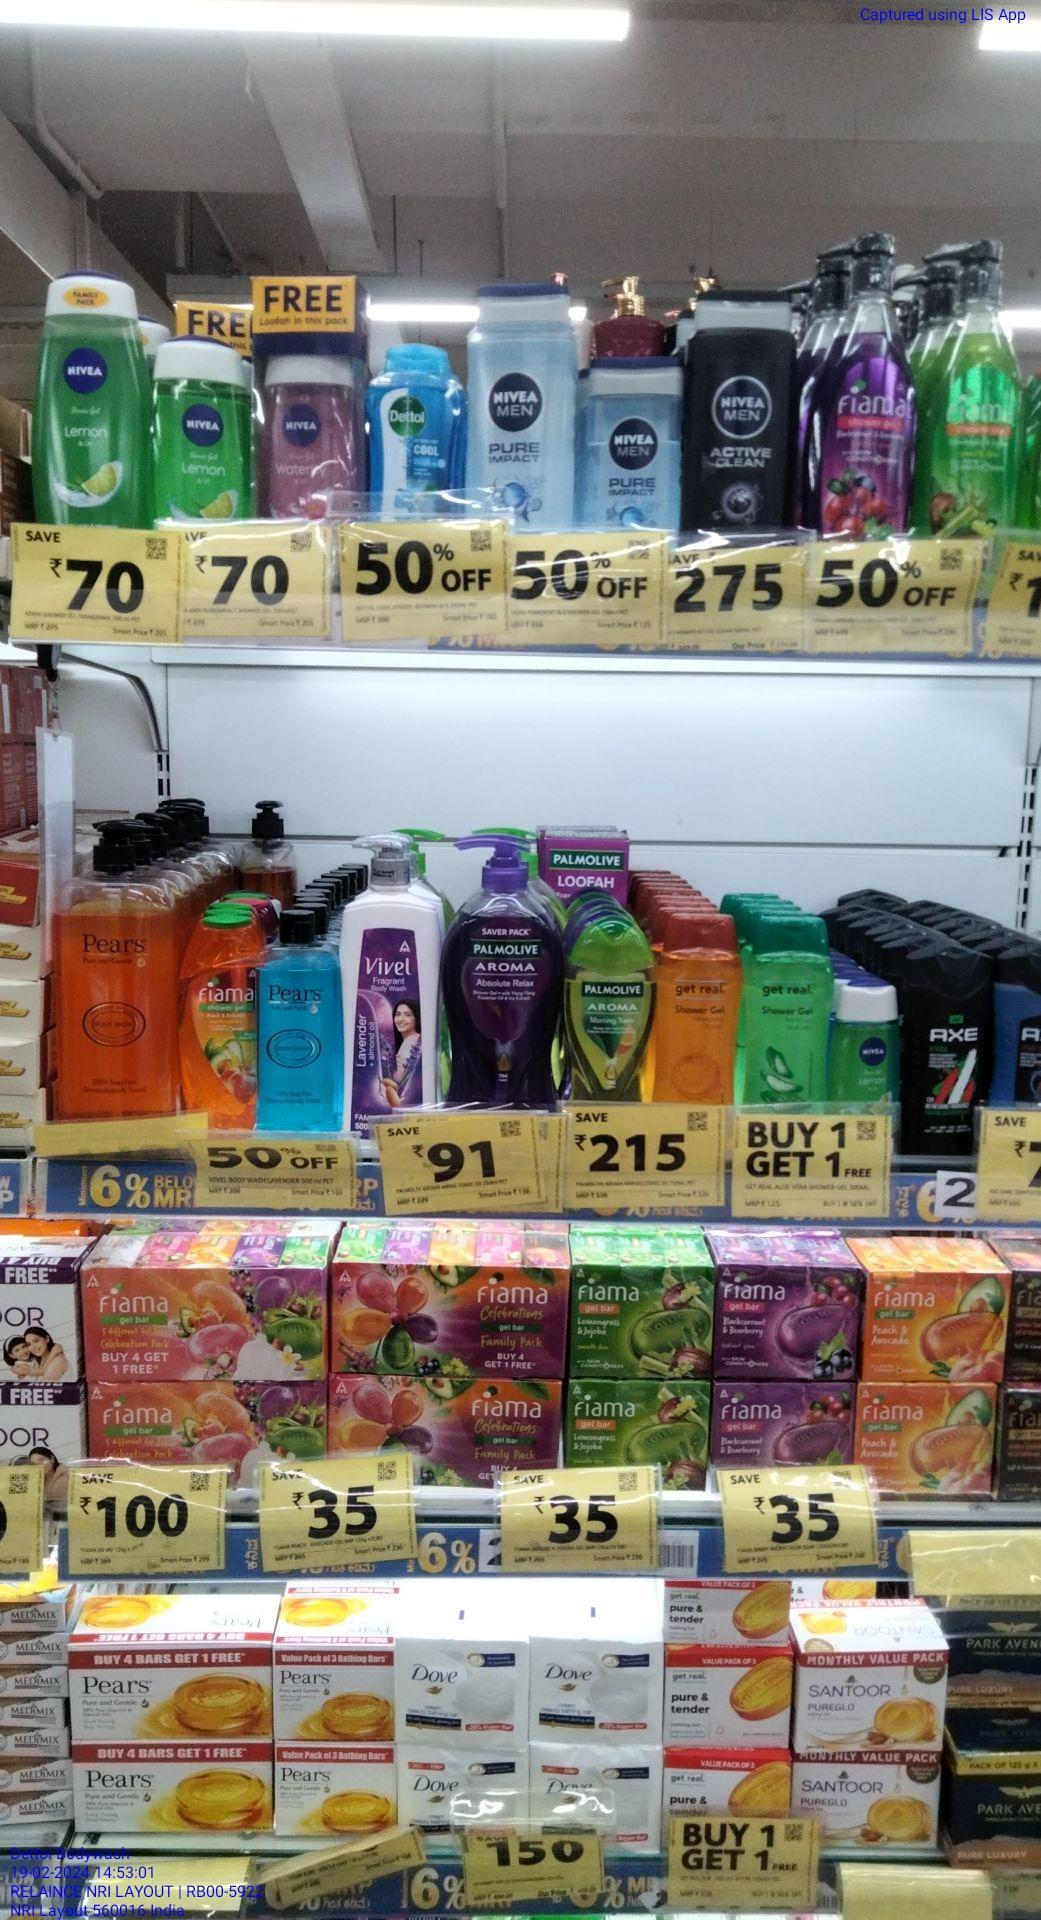Dettol_Bodywash_Cool: (369, 347, 469, 529)
Fiama_Shower_Gel_Peach_and_Avocado_250ML: (187, 906, 268, 1128)
Nivea_Shower_Gel_Lemon_and_Oil_250ML: (36, 264, 158, 526), (159, 333, 267, 523)
Palmolive_Aroma_Morning_Tonic_Shower_Gel_250ML: (563, 916, 656, 1102)
Pears_Pure_Glycerin_and_Mint_Extracts_Body_Wash_250ML: (269, 911, 342, 1129)
